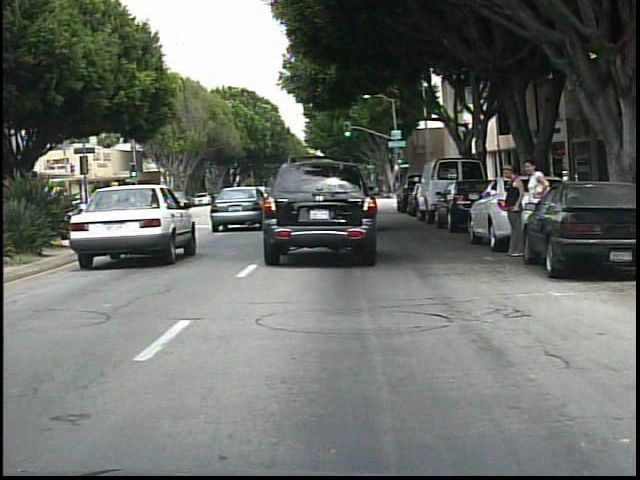person: (521, 155, 552, 256), (497, 165, 527, 266)
